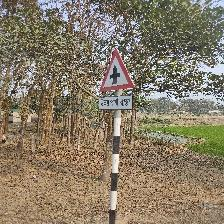Crossroad: (98, 43, 136, 119)
